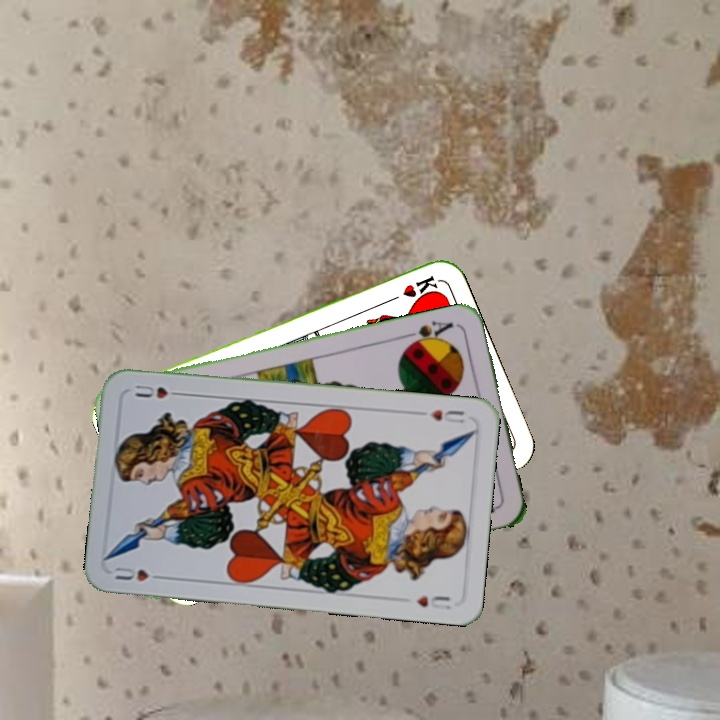HK: (383, 271, 441, 306)
HU: (110, 562, 168, 584), (414, 406, 467, 426)
SA: (400, 316, 456, 350)
